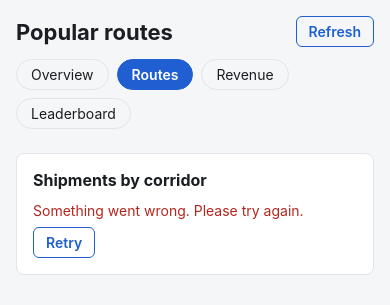
RoutesHeatmap › shows an error with retry, and recovers
Step 1. Click the button with test id "widget-routes-retry" → [64, 242], box [33,227,95,258]
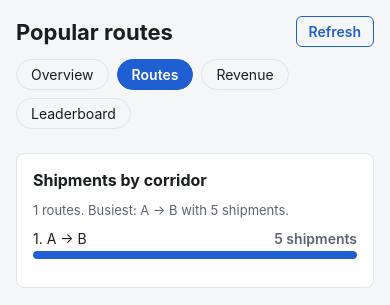
Check: the text "1. A → B" is shown, box [33,230,87,247]
